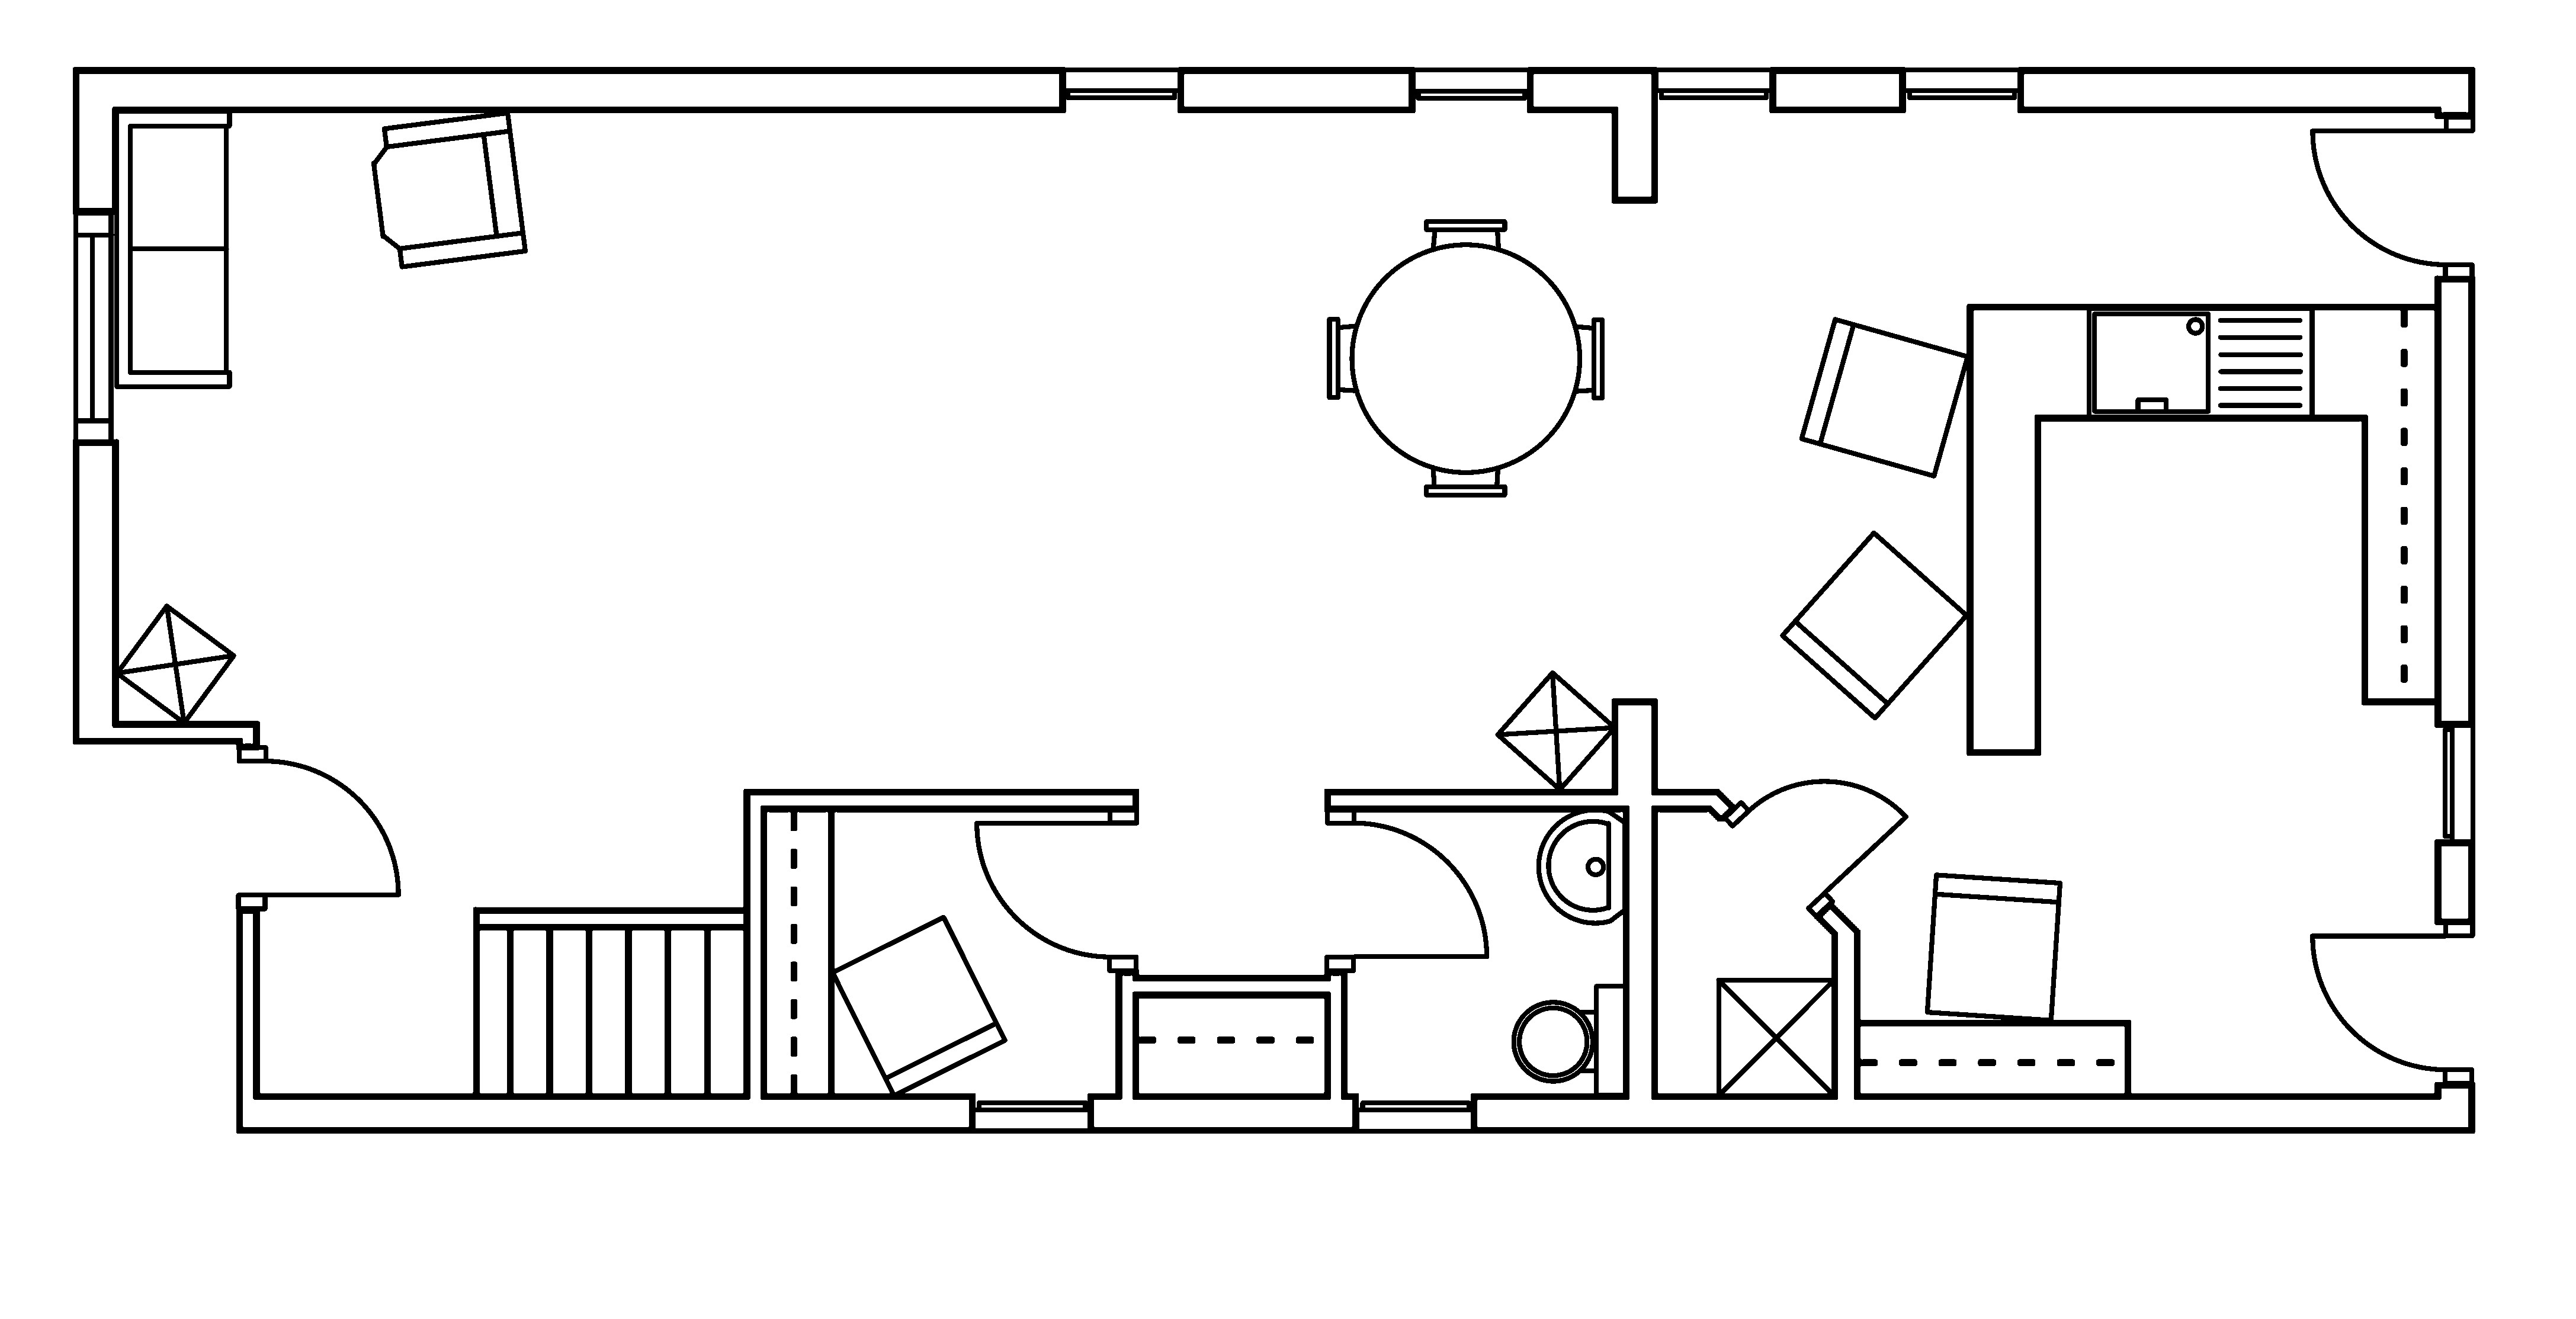armchair: (370, 109, 528, 269)
coffee_table: (113, 602, 237, 725), (1493, 670, 1618, 792), (1715, 976, 1836, 1099)
large_sink: (1512, 983, 1628, 1097)
large_sofa: (113, 108, 232, 389)
round_table: (1325, 219, 1604, 498)
sink: (2085, 305, 2314, 421)
small_sink: (1535, 808, 1628, 925)
small_sofa: (1779, 530, 1969, 720), (829, 914, 1007, 1099), (1797, 316, 1971, 478), (1924, 871, 2063, 1023)
